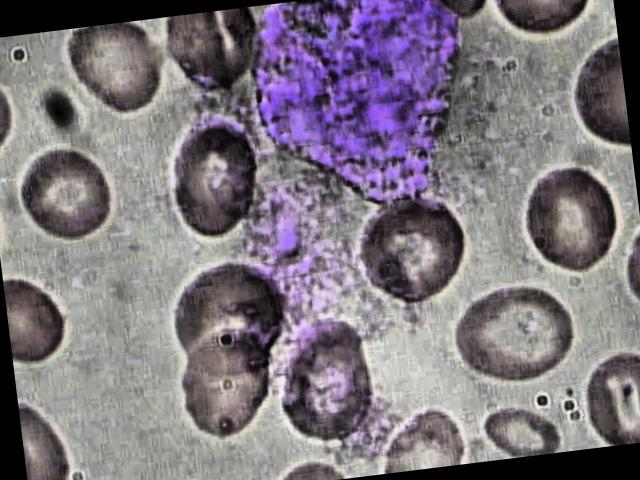RBC: (444, 270, 584, 396), (339, 188, 476, 311), (272, 306, 386, 448), (156, 113, 266, 244), (170, 317, 280, 448), (0, 132, 122, 250), (514, 158, 629, 278), (61, 19, 176, 120), (158, 8, 266, 102), (1, 264, 73, 370), (372, 395, 468, 474), (573, 343, 640, 449), (486, 0, 608, 42)
